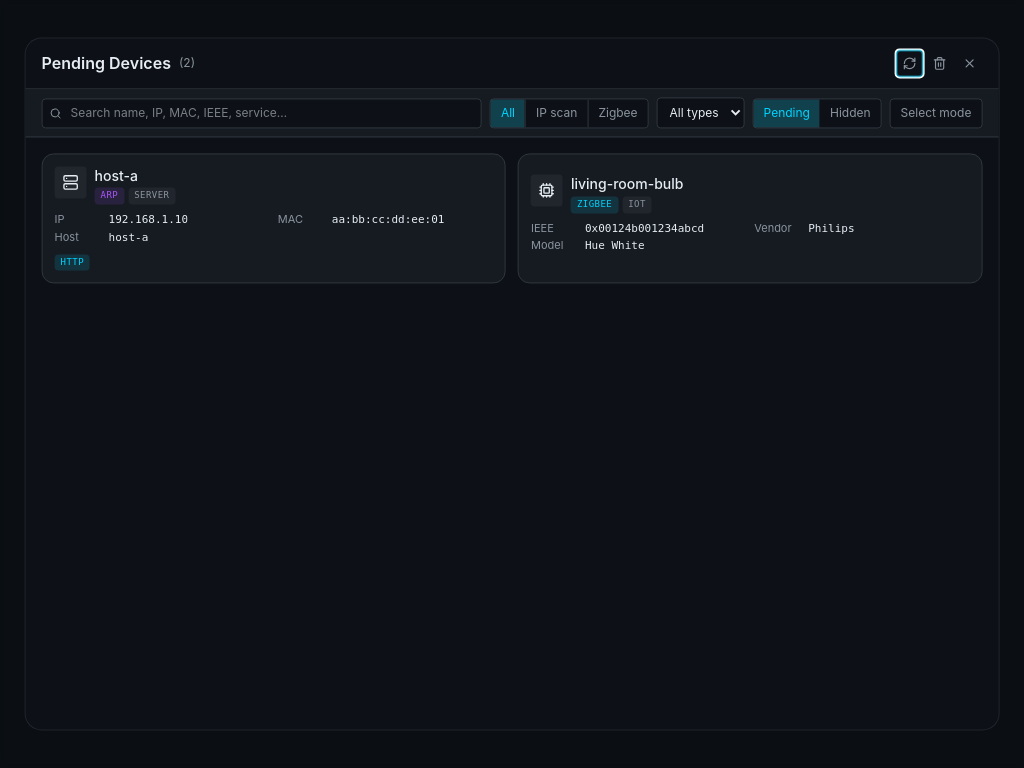
Scenario: PendingDevicesModal › filters by suggested type
Expected: the button with test id "pending-card-dev-a" is shown, [42, 153, 506, 284]
Step 1. Select "server" in the dropdown named "Type filter" → (701, 113), box [657, 97, 745, 128]
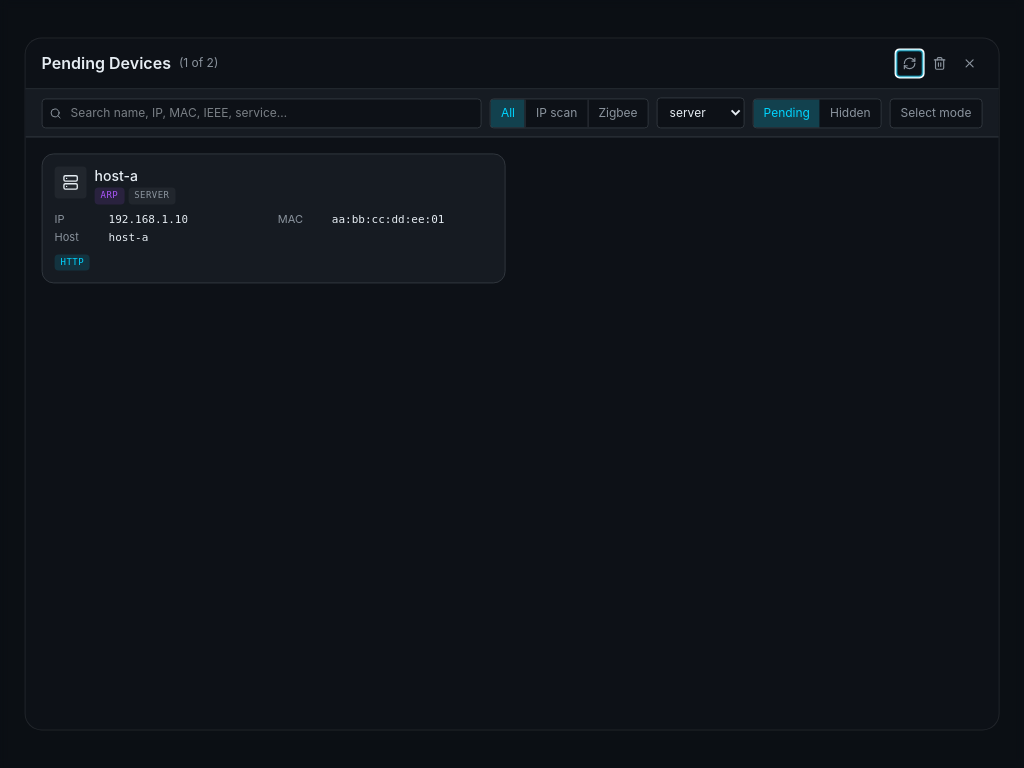
Expected: the button with test id "pending-card-dev-a" is shown, [42, 153, 506, 284]
Result: the button with test id "pending-card-dev-b" is gone
